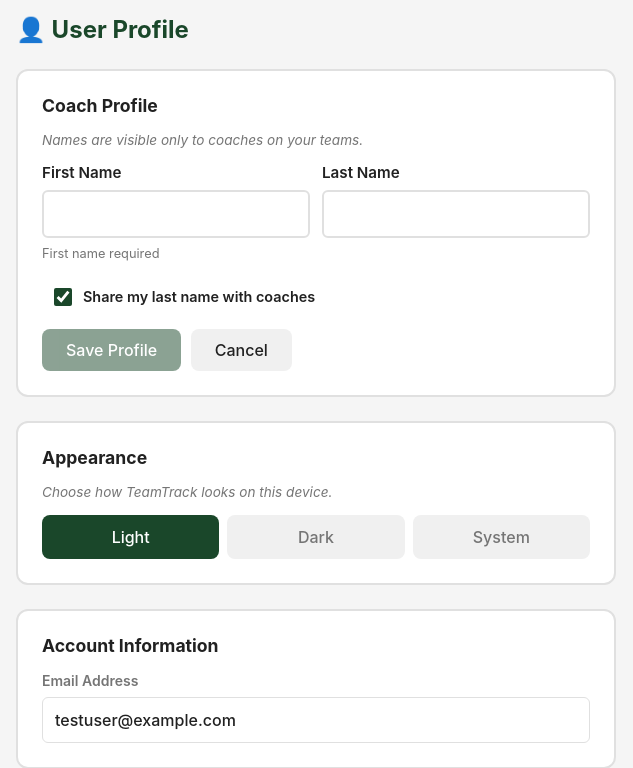
Test: UserProfile – coach profile form › shows persistent conflict alert with Retry + Discard on concurrency conflict
Type "Alex" into the field labelled "First Name" at (176, 214), box [42, 190, 310, 238]
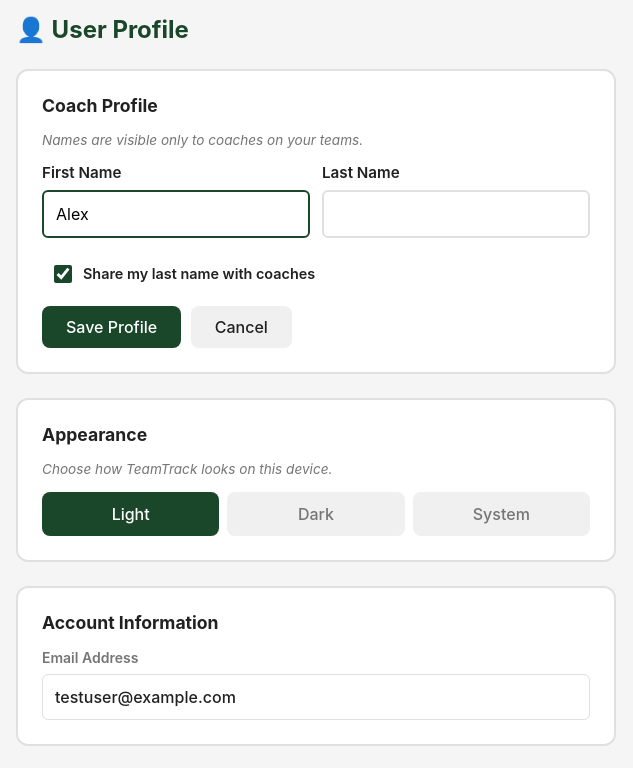
Click the button "Save Profile" at (112, 327), box [42, 306, 181, 348]
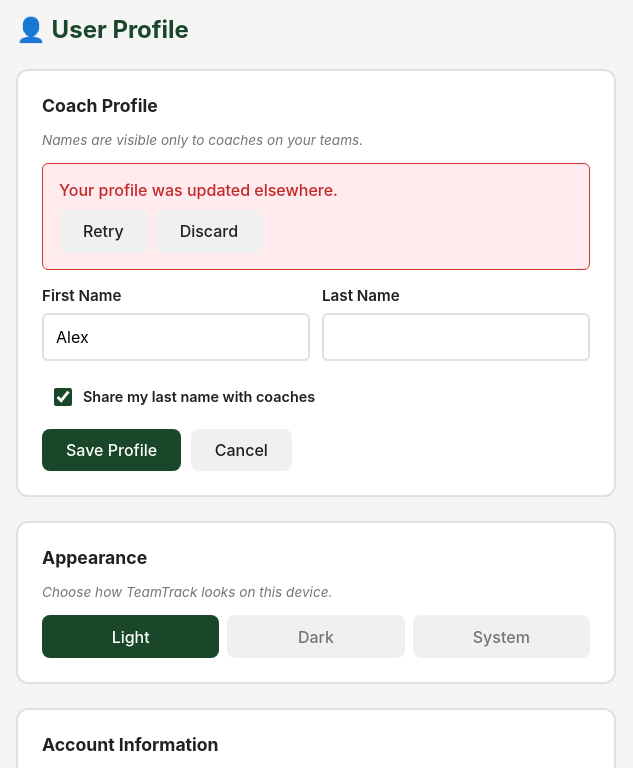
Result: the text "Your profile was updated elsewhere." is shown at [59, 180, 338, 200]
Result: the button "Retry" is shown at [59, 210, 148, 253]
Result: the button "Discard" is shown at [156, 210, 262, 253]
